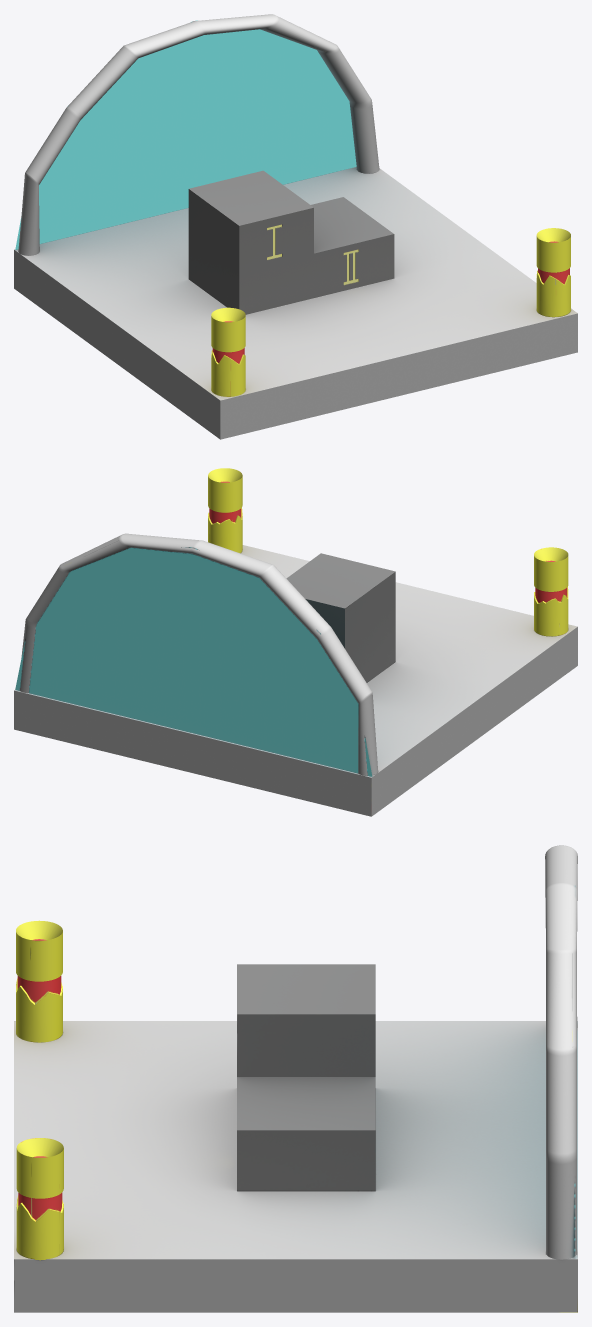
File: podium.fbx
3 renders of one model, top to bottom at view 1: azimuth 30°, elevation 25°; view 2: azimuth 150°, elevation 25°; view 3: azimuth 270°, elevation 25°, orthographic. The views are drawn at different scales.
Parts seen in each view (by area): view 1: bake podium; view 2: bake podium; view 3: bake podium.
Part boxes in pixels (x1,y1,x2,y2): bake podium: [14, 14, 577, 439]; bake podium: [14, 468, 577, 816]; bake podium: [14, 845, 577, 1312].
Bounding box in the file's own units: 2395 × 1450 × 2391.
